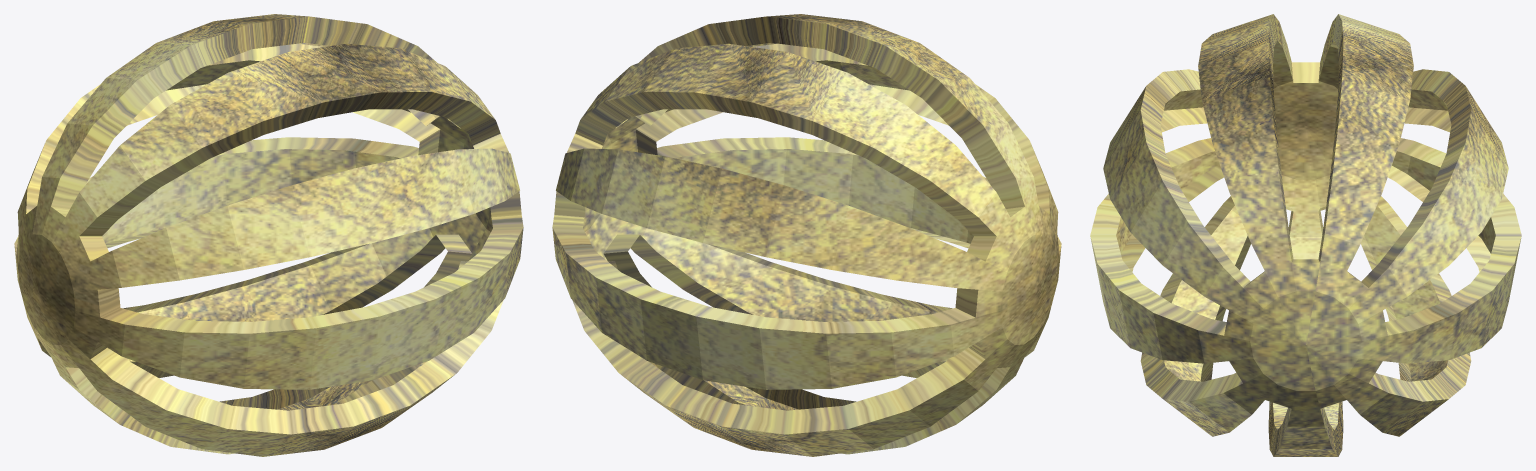
Rendered from abdomin.dae.
3 views of the same model, side by side, from view 1: azimuth 30°, elevation 25°; view 2: azimuth 150°, elevation 25°; view 3: azimuth 270°, elevation 25° (orthographic). The views are drawn at different scales.
Parts seen in each view (by area): view 1: Abdoment_Inner; view 2: Abdoment_Inner; view 3: Abdoment_Inner.
Boxes of the visible parts, bbox=[...] form: Abdoment_Inner: bbox=[14, 14, 523, 456]; Abdoment_Inner: bbox=[552, 14, 1061, 456]; Abdoment_Inner: bbox=[1090, 14, 1521, 456].
Bounding box in the file's own units: 1.38 × 1.15 × 1.13.
1 material, 1 textured.
